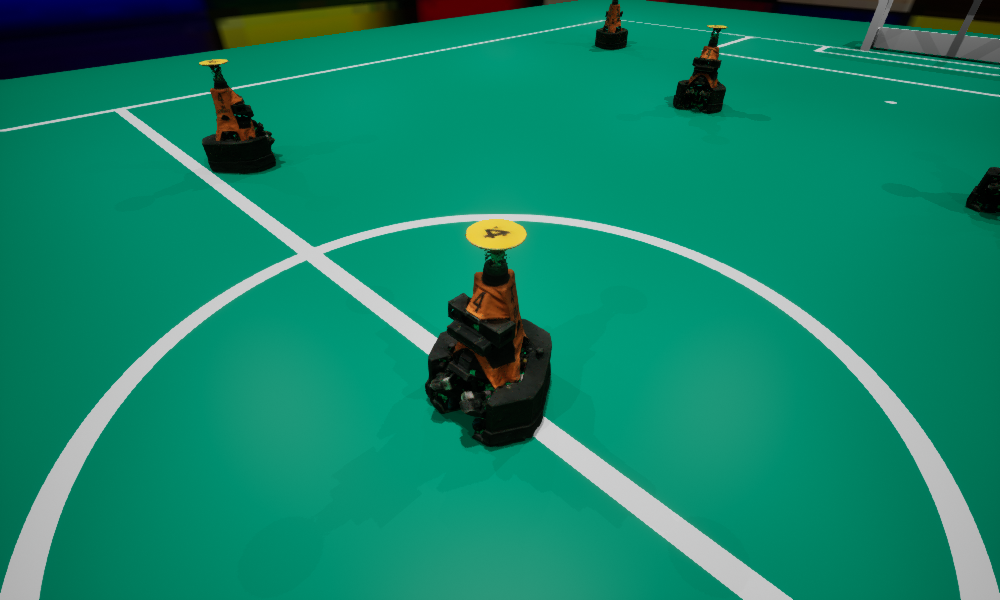o: (425, 219, 551, 446), (199, 59, 275, 173), (673, 25, 727, 112), (595, 0, 627, 49), (966, 167, 999, 212)
